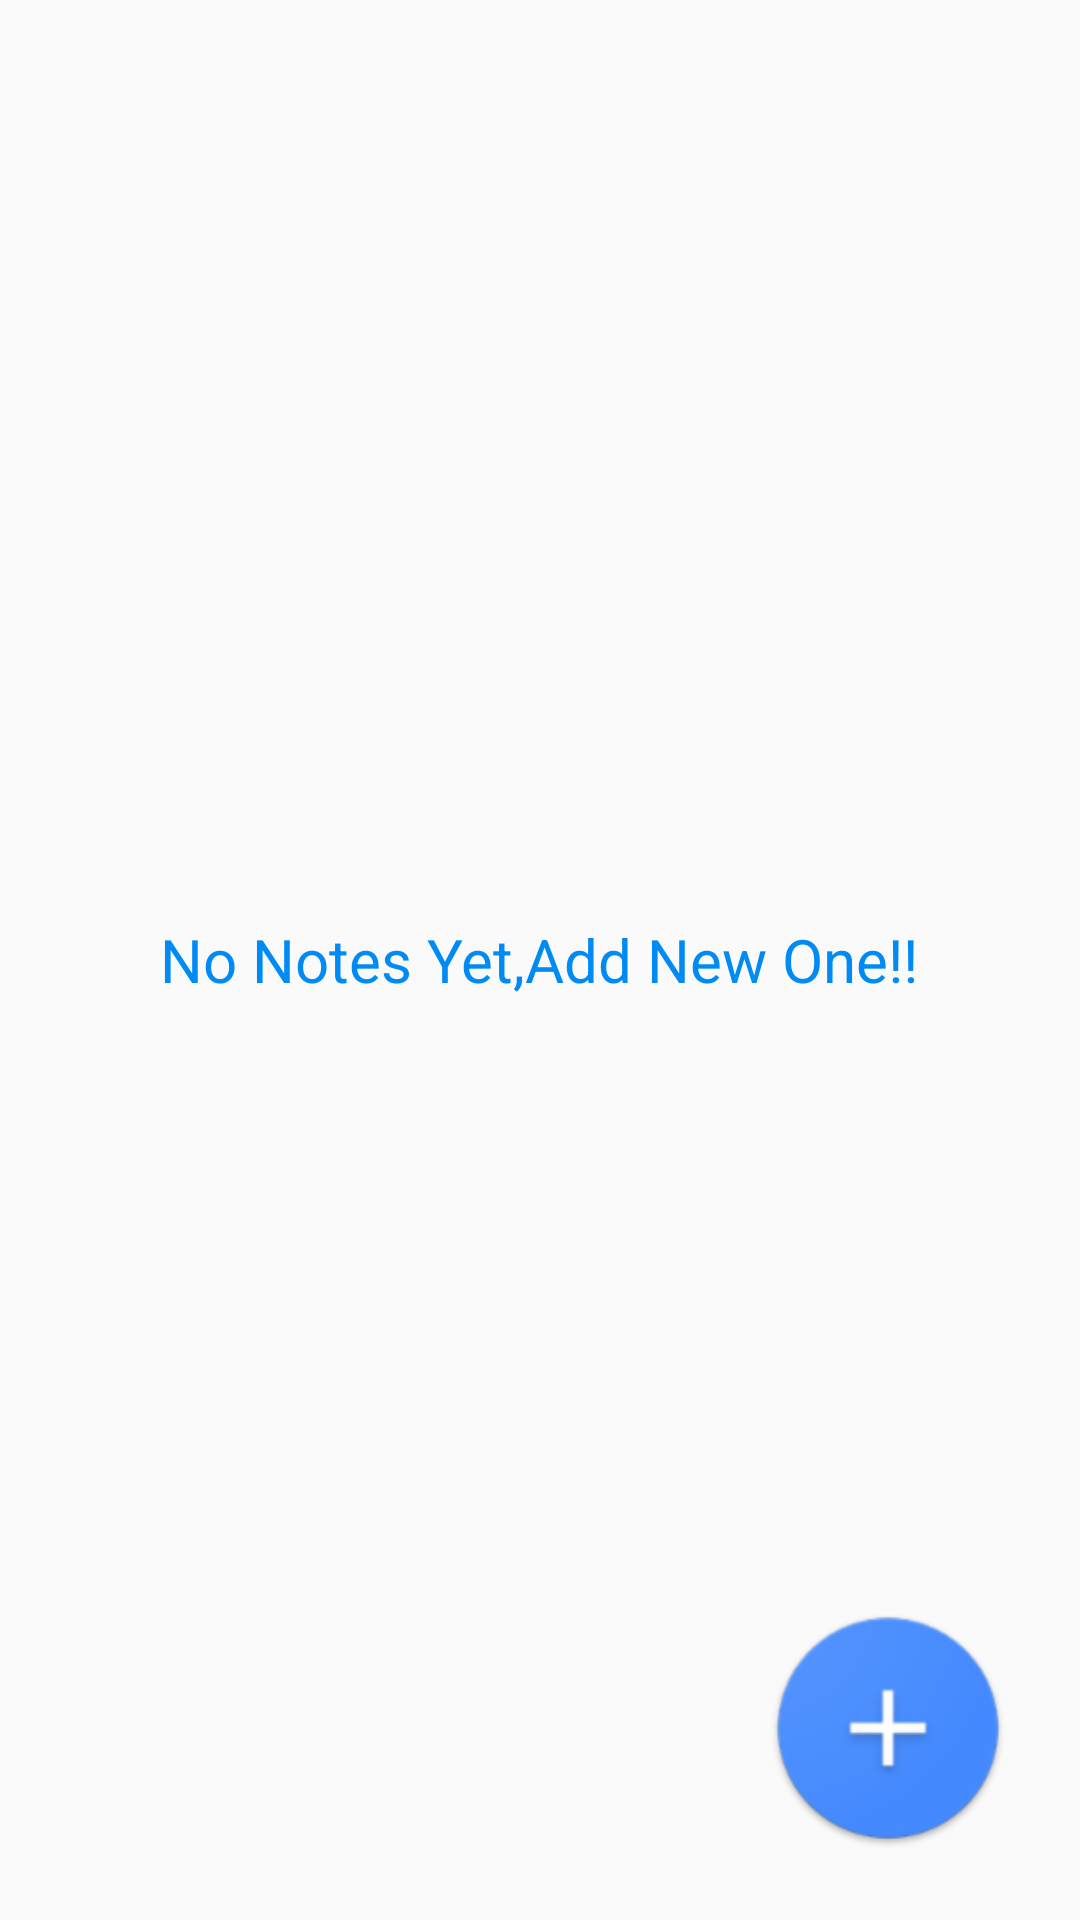

Point at icon controls on the screen. Image size 1080px×1920px, points as (x=x, y=y).
floating: (x=888, y=1730)
